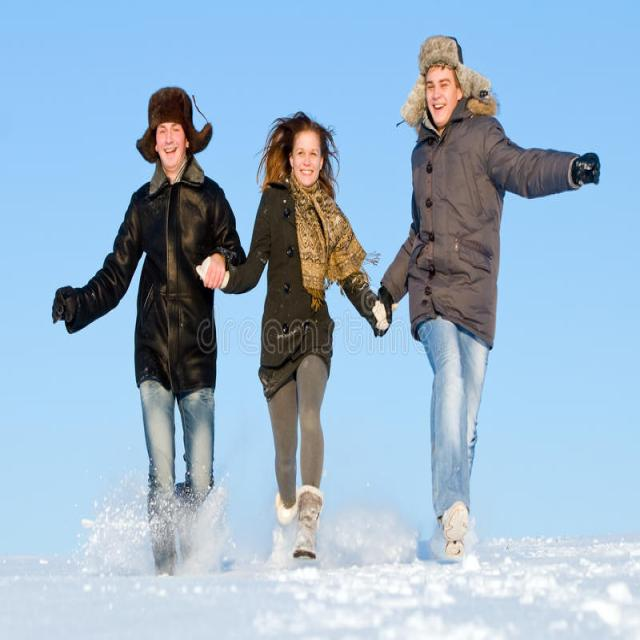running: (380, 31, 602, 559), (49, 84, 244, 573), (243, 116, 385, 561)
